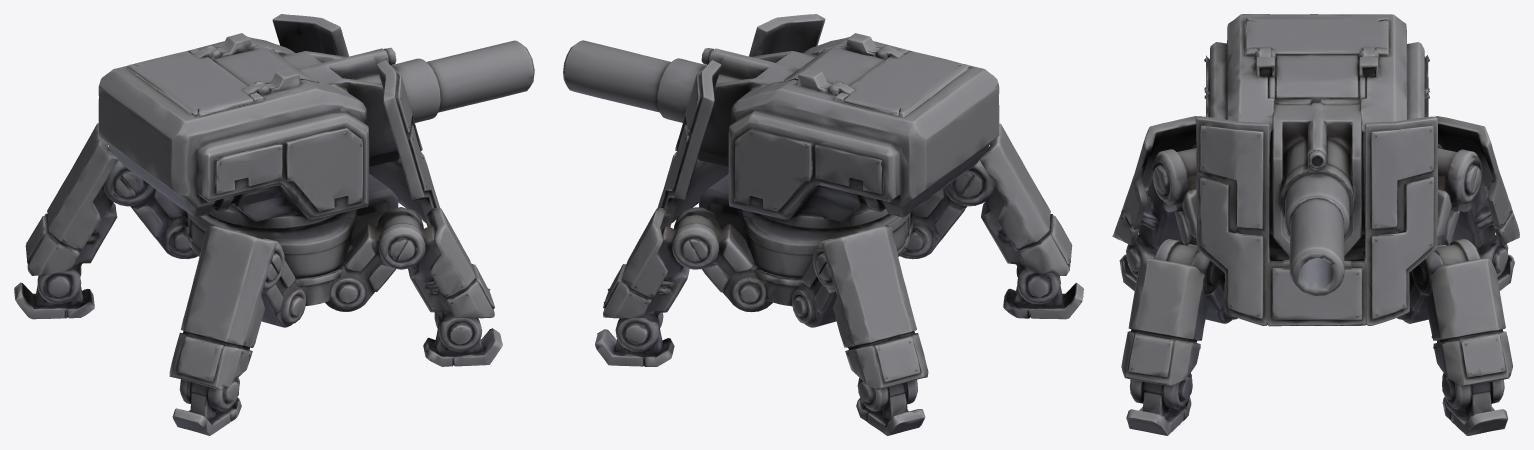
File: 6d9ffe92-6255-4c5d-b848-cd1195d9a1b2-pbr_model.glb
3 views of the same model, side by side, from view 1: azimuth 30°, elevation 25°; view 2: azimuth 150°, elevation 25°; view 3: azimuth 270°, elevation 25° (orthographic). The views are drawn at different scales.
Visible parts, largest first — view 1: tripo_node_6d9ffe92-6255-4c5d-b848-cd1195d9a1b2; view 2: tripo_node_6d9ffe92-6255-4c5d-b848-cd1195d9a1b2; view 3: tripo_node_6d9ffe92-6255-4c5d-b848-cd1195d9a1b2.
Boxes of the visible parts, box(x1,y1,x2,y2) form: tripo_node_6d9ffe92-6255-4c5d-b848-cd1195d9a1b2: box(14, 14, 534, 435); tripo_node_6d9ffe92-6255-4c5d-b848-cd1195d9a1b2: box(563, 14, 1083, 435); tripo_node_6d9ffe92-6255-4c5d-b848-cd1195d9a1b2: box(1112, 14, 1519, 435).
Bounding box in the file's own units: 1 × 0.6217 × 0.7734.
Materials: 1 (1 with a texture image).
